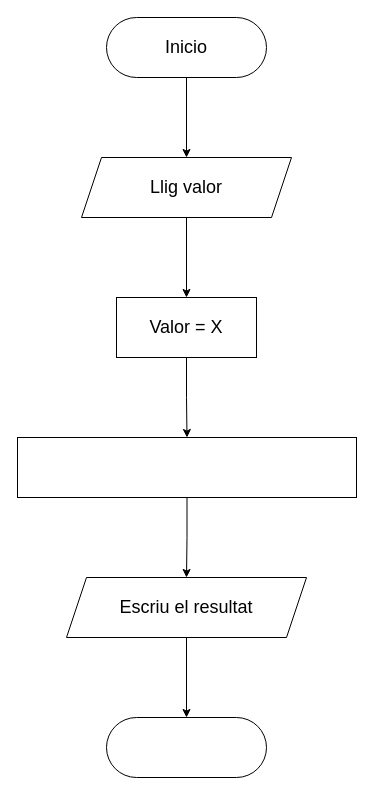
Some shapes in this 374 by 795 pixel diagram are drawn without their labels. The box of each missing label's shape, as (x1, y1, x2, y2) in pixels:
Calcula els metres: X * 1852: (16, 436, 356, 498)
Fi: (106, 716, 266, 778)
